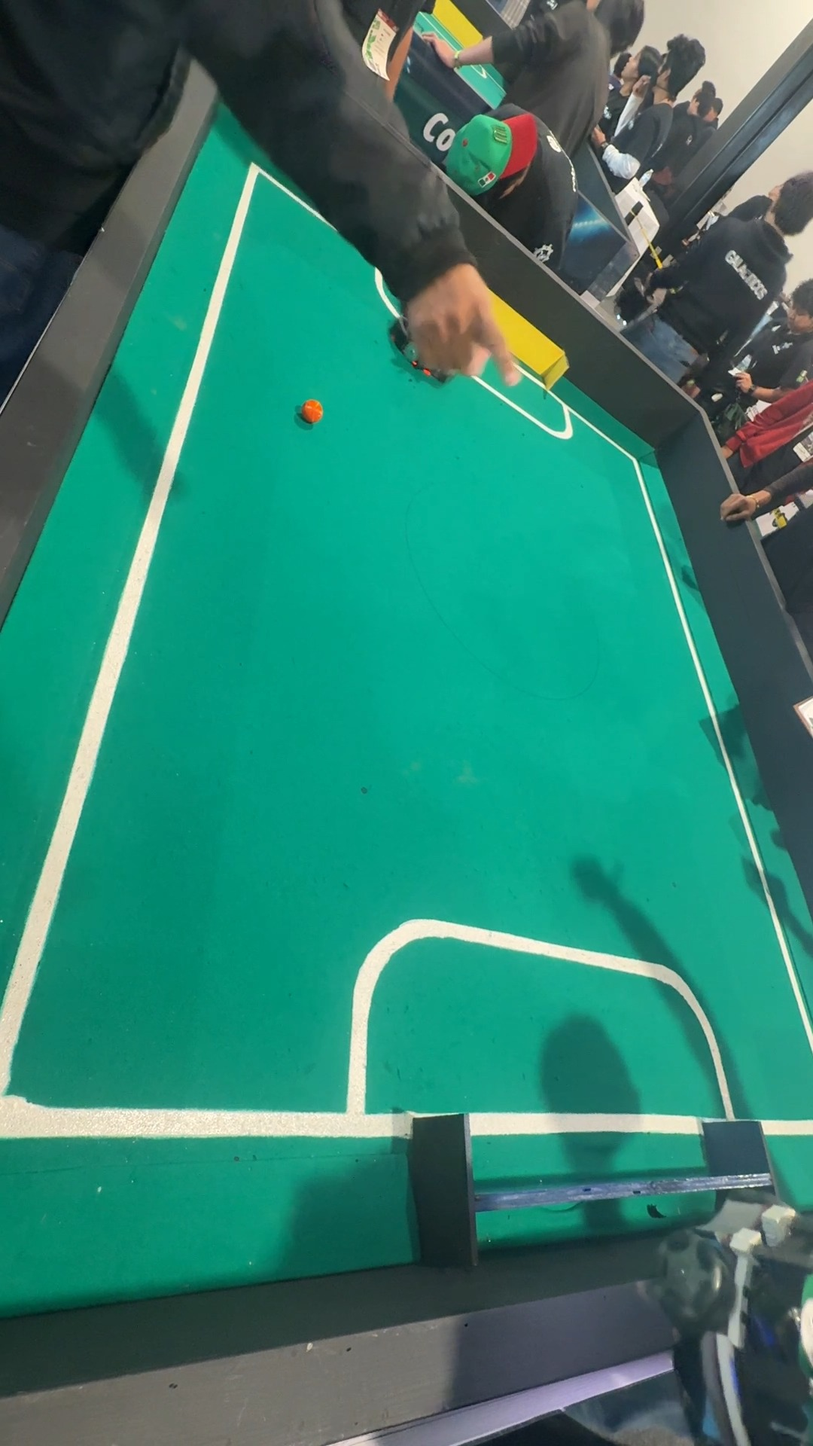pelota: (299, 399, 326, 425)
